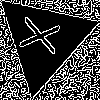X: (18, 16, 70, 58)
